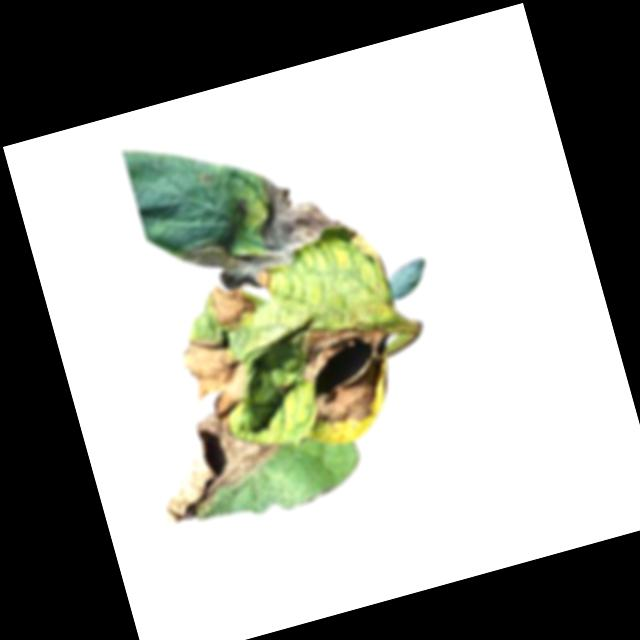Late_blight: (165, 159, 356, 305), (142, 397, 298, 529), (289, 311, 406, 432), (177, 325, 259, 416), (207, 277, 257, 331)
